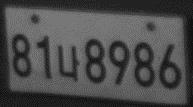1: (35, 34, 52, 79)
6: (156, 42, 182, 91)
8: (132, 40, 156, 88), (84, 38, 106, 84), (11, 33, 32, 78)
9: (109, 39, 130, 87)
나: (56, 44, 81, 83)
